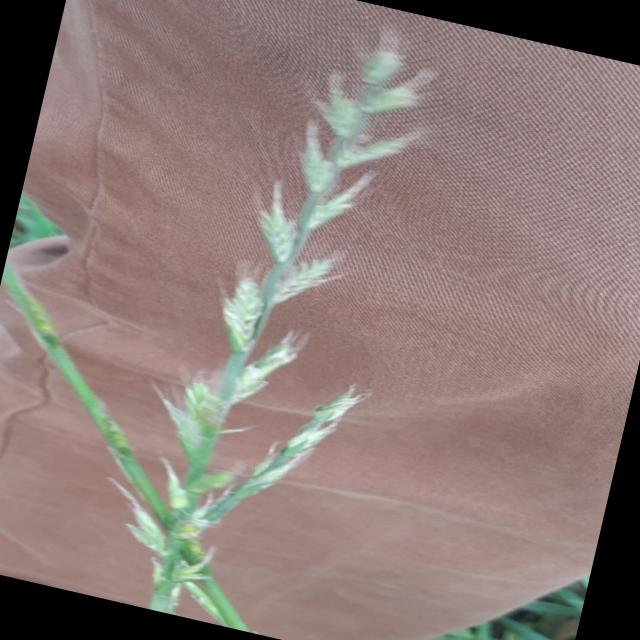Lolium: (0, 0, 464, 640)
